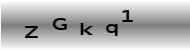1: (120, 8, 133, 23)
G: (50, 16, 67, 31)
Z: (23, 24, 38, 39)
k: (79, 21, 93, 36)
q: (104, 22, 119, 37)
